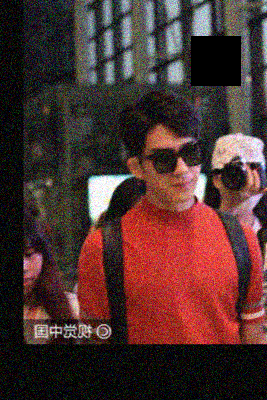without_mask: (141, 137, 201, 202), (23, 244, 41, 293)
